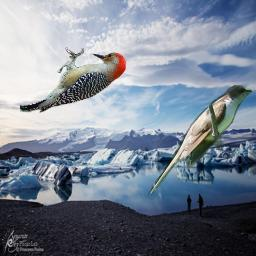Cuckoo: (148, 85, 252, 196)
Woodpecker: (20, 47, 128, 114)
